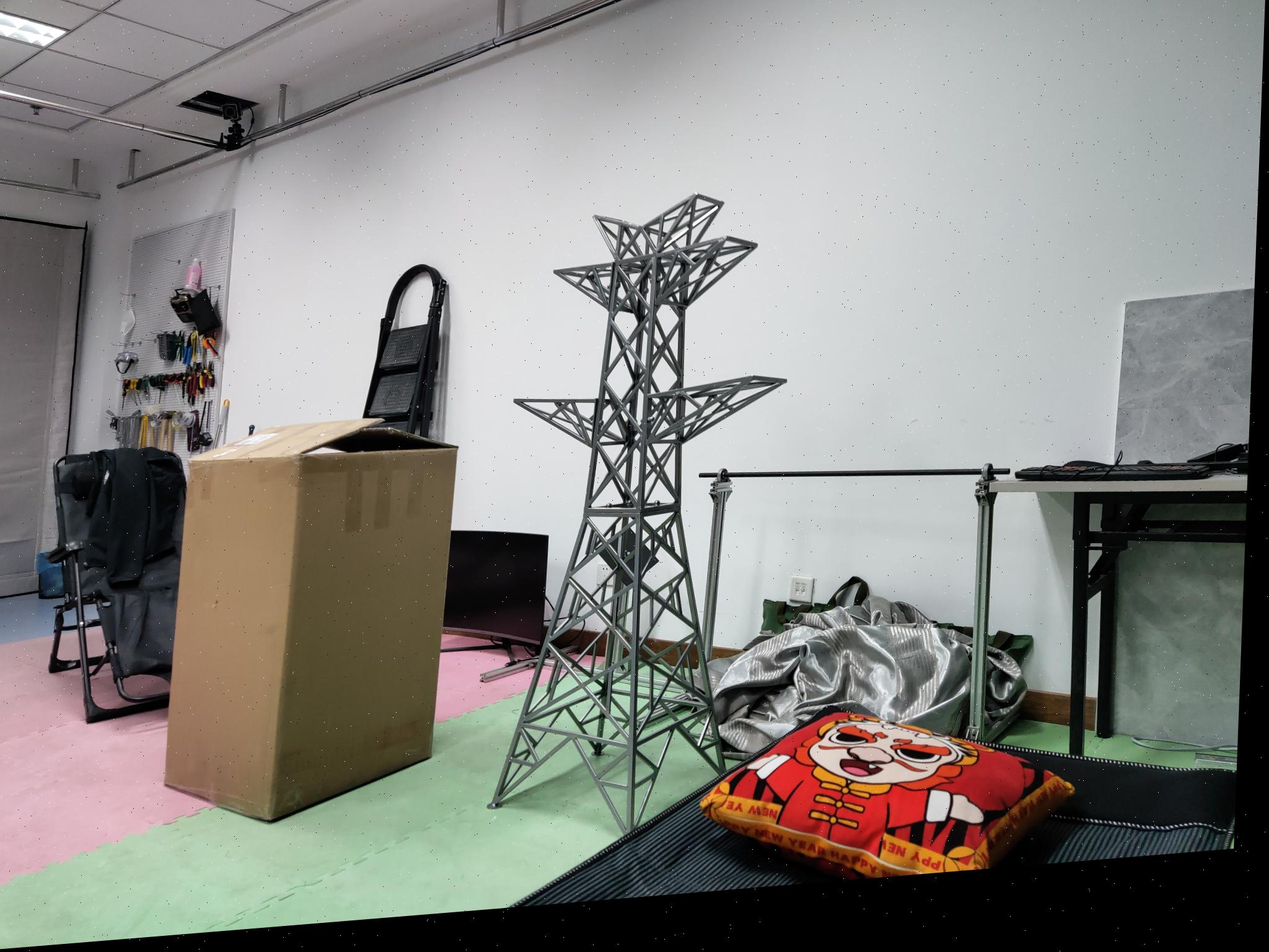tower: (496, 186, 789, 818)
